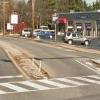Crosswalk: (4, 75, 100, 95)
